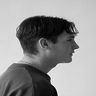ear: (33, 34, 56, 55)
